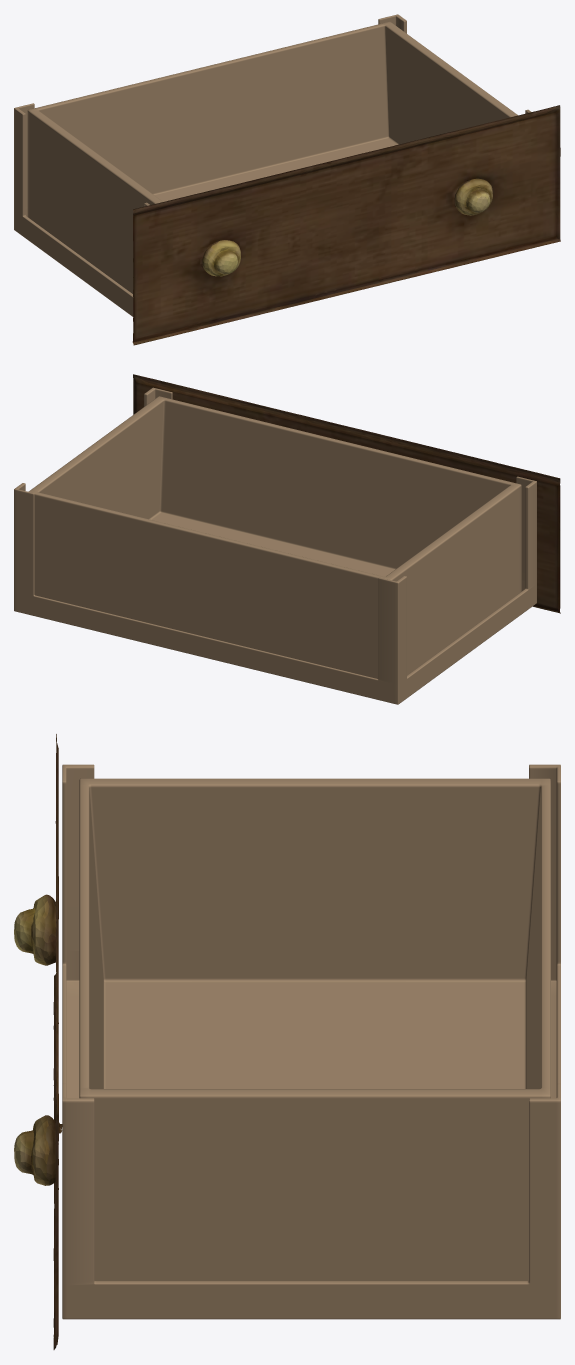
The model's file is drawer_top.glb.
3 renders of one model, top to bottom at view 1: azimuth 30°, elevation 25°; view 2: azimuth 150°, elevation 25°; view 3: azimuth 270°, elevation 25°, orthographic. The views are drawn at different scales.
Parts seen in each view (by area): view 1: prefab_drawer_body_1, source_front_cap_0; view 2: prefab_drawer_body_1, source_front_cap_0; view 3: prefab_drawer_body_1, source_front_cap_0.
Boxes of the visible parts, <box> form: prefab_drawer_body_1: <box>14,14,531,316</box>; source_front_cap_0: <box>132,105,560,345</box>; prefab_drawer_body_1: <box>14,387,536,704</box>; source_front_cap_0: <box>133,374,560,613</box>; prefab_drawer_body_1: <box>62,764,560,1319</box>; source_front_cap_0: <box>14,734,62,1349</box>.
Bounding box in the file's own units: 0.5889 × 0.1788 × 0.3642.
Materials: 2 (1 with a texture image).
